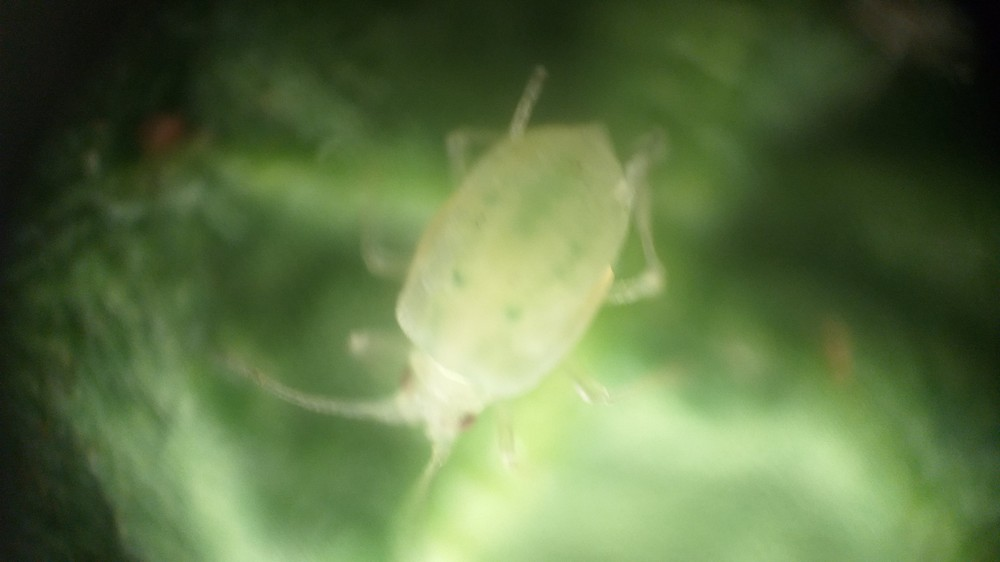Pulgon: (229, 46, 748, 557)
